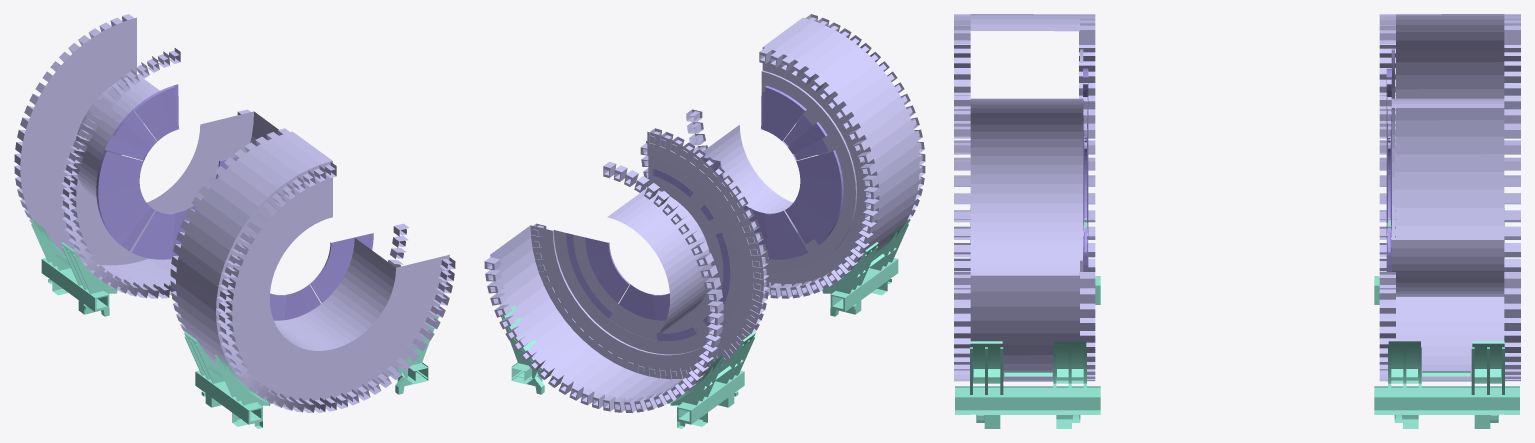
File: calorimeter-tile-endcap-cut-3.glb
The picture shows the model from 3 angles, left to right: view 1: azimuth 30°, elevation 25°; view 2: azimuth 150°, elevation 25°; view 3: azimuth 270°, elevation 25°; orthographic projection. The views are drawn at different scales.
Visible parts, largest first — view 1: Mesh_0.004, Mesh_0.005, Mesh_2.007, Mesh_1.005, Mesh_1.006, Mesh_2.005; view 2: Mesh_0.005, Mesh_0.004, Mesh_2.005, Mesh_2.007, Mesh_1.006, Mesh_1.005; view 3: Mesh_0.005, Mesh_0.004, Mesh_1.005, Mesh_1.006, Mesh_2.007, Mesh_2.005.
Boxes of the visible parts, box(x1,y1,x2,y2) form: Mesh_0.004: box(170, 128, 455, 412); Mesh_0.005: box(14, 14, 278, 298); Mesh_2.007: box(96, 84, 237, 259); Mesh_1.005: box(184, 315, 438, 428); Mesh_1.006: box(31, 219, 117, 316); Mesh_2.005: box(270, 233, 373, 320); Mesh_0.005: box(484, 128, 769, 412); Mesh_0.004: box(640, 14, 925, 298); Mesh_2.005: box(702, 85, 843, 259); Mesh_2.007: box(566, 168, 730, 341); Mesh_1.006: box(501, 305, 755, 428); Mesh_1.005: box(822, 219, 908, 316); Mesh_0.005: box(1379, 14, 1520, 381); Mesh_0.004: box(954, 14, 1095, 381); Mesh_1.005: box(955, 204, 1100, 428); Mesh_1.006: box(1374, 204, 1519, 428); Mesh_2.007: box(1386, 68, 1391, 271); Mesh_2.005: box(1083, 68, 1088, 271).
Bounding box in the file's own units: 8.48 × 8.73 × 13.05.
